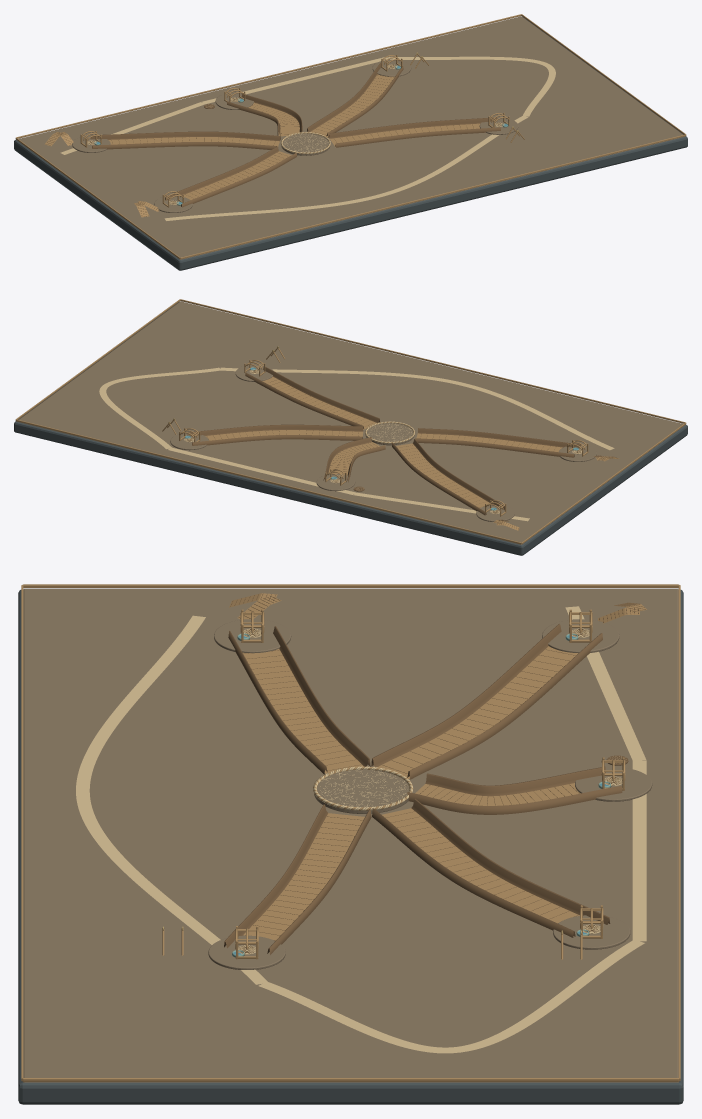
Rendered from habitat.glb.
3 renders of one model, top to bottom at view 1: azimuth 30°, elevation 25°; view 2: azimuth 150°, elevation 25°; view 3: azimuth 270°, elevation 25°, orthographic. The views are drawn at different scales.
Parts seen in each view (by area): view 1: Warm cork, Honey timber, Graphite tray, Dark end grain, Natural flax; view 2: Warm cork, Honey timber, Graphite tray, Dark end grain, Natural flax; view 3: Warm cork, Honey timber, Dark end grain, Graphite tray, Natural flax.
Part boxes in pixels (x1,y1,x2,y2): Warm cork: (19, 16, 684, 259); Honey timber: (15, 14, 686, 259); Graphite tray: (14, 17, 687, 270); Dark end grain: (46, 63, 503, 216); Natural flax: (60, 56, 555, 220); Warm cork: (17, 301, 682, 544); Honey timber: (15, 299, 686, 544); Graphite tray: (14, 302, 687, 555); Dark end grain: (185, 366, 617, 530); Natural flax: (99, 367, 614, 521); Warm cork: (23, 589, 678, 1082); Honey timber: (21, 584, 680, 1081); Dark end grain: (224, 593, 645, 954); Graphite tray: (18, 590, 683, 1104); Natural flax: (76, 606, 646, 1053).
Bounding box in the file's own units: 64.5 × 2.9 × 36.5.
